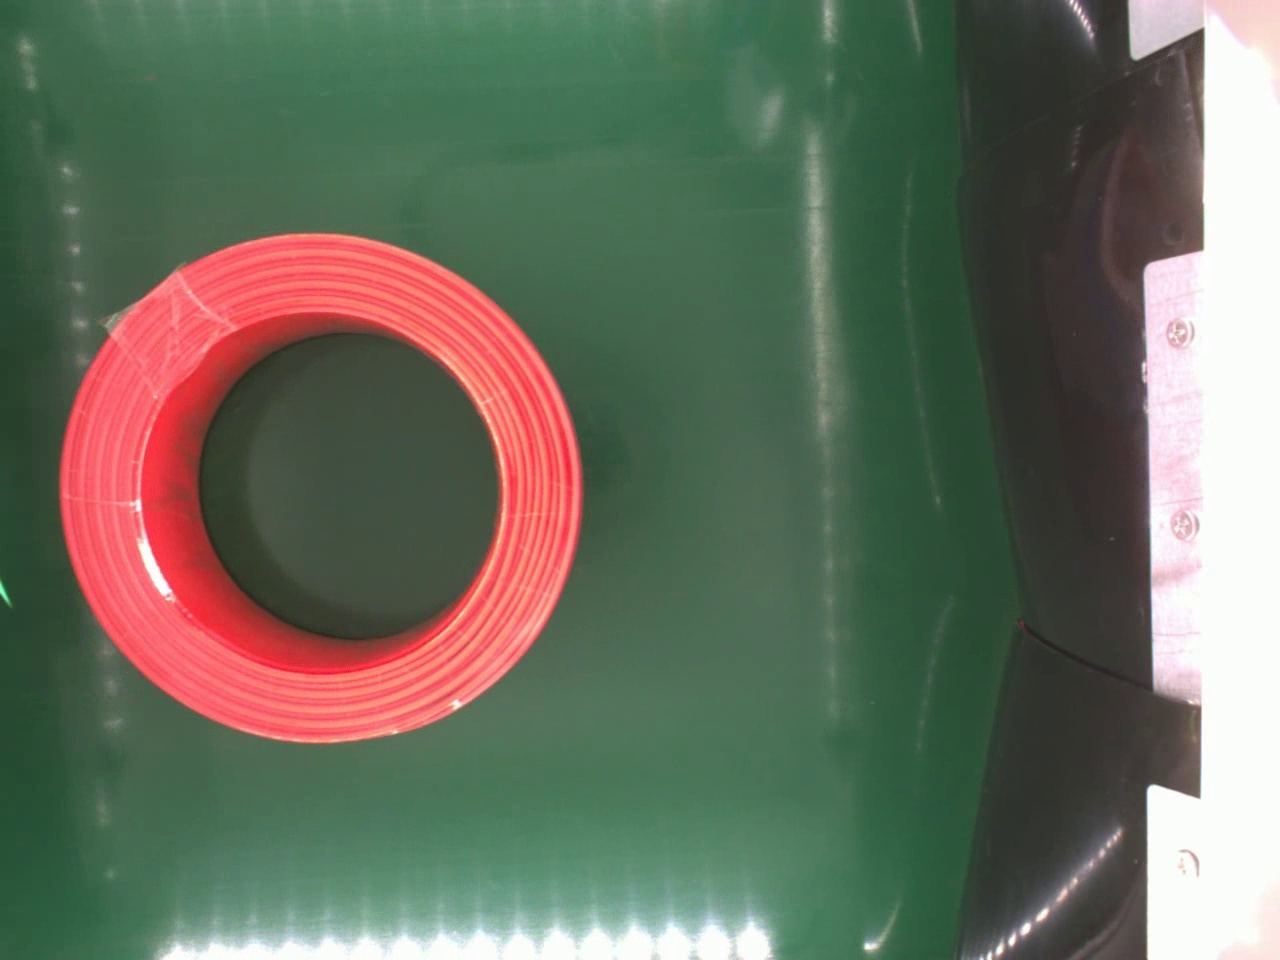red: (57, 224, 578, 743)
